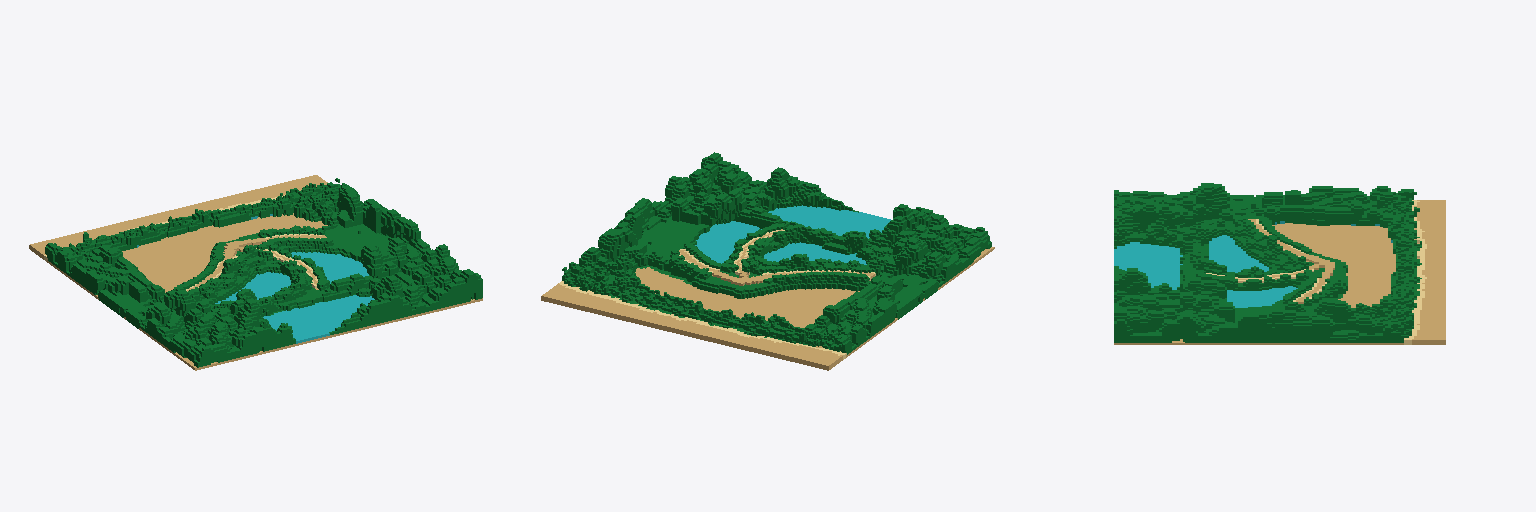
The picture shows the model from 3 angles: view 1: azimuth 30°, elevation 25°; view 2: azimuth 150°, elevation 25°; view 3: azimuth 270°, elevation 25°; orthographic projection.
Visible parts, largest first — view 1: 泽湖(未完成); view 2: 泽湖(未完成); view 3: 泽湖(未完成).
Boxes of the visible parts, box(x1,y1,x2,y2) form: 泽湖(未完成): box(29, 175, 482, 370); 泽湖(未完成): box(541, 152, 994, 370); 泽湖(未完成): box(1114, 183, 1445, 344).
Bounding box in the file's own units: 126 × 16 × 126.
1 materials, 1 textured.